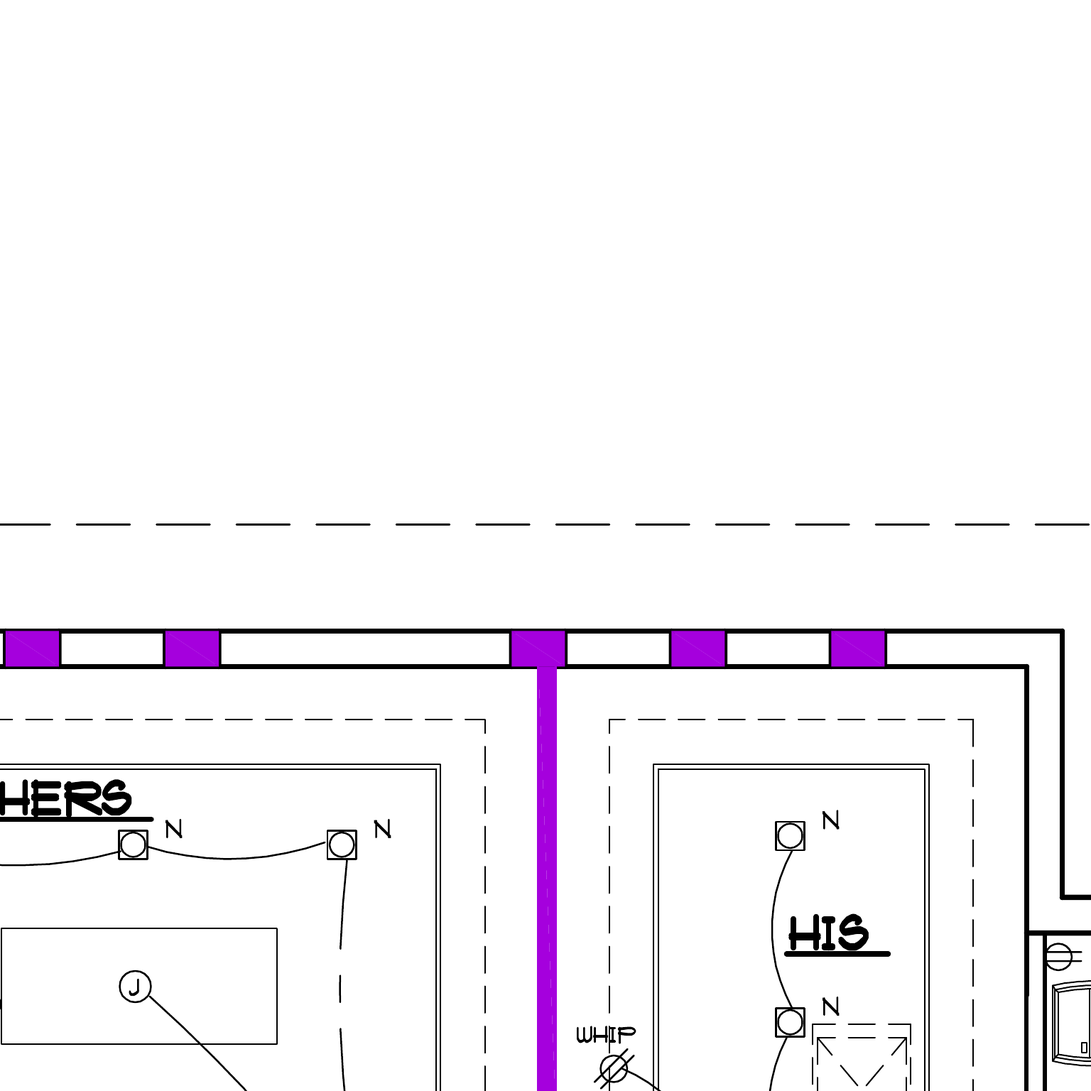recessed_can: (774, 1006, 806, 1039), (117, 829, 149, 861), (326, 829, 358, 861), (774, 820, 806, 852)
